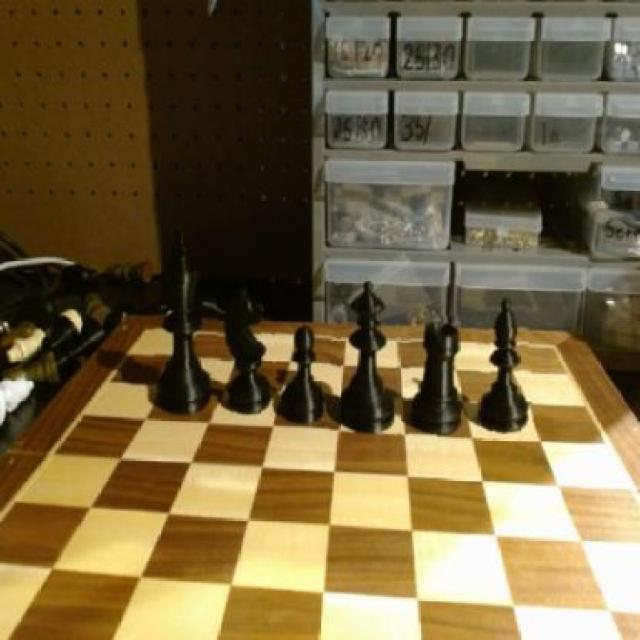bishop: (478, 296, 534, 442)
black-bishop: (154, 231, 217, 416)
black-king: (218, 276, 274, 418)
black-knight: (276, 326, 332, 432)
black-pawn: (337, 274, 400, 441)
black-queen: (408, 315, 467, 444)
